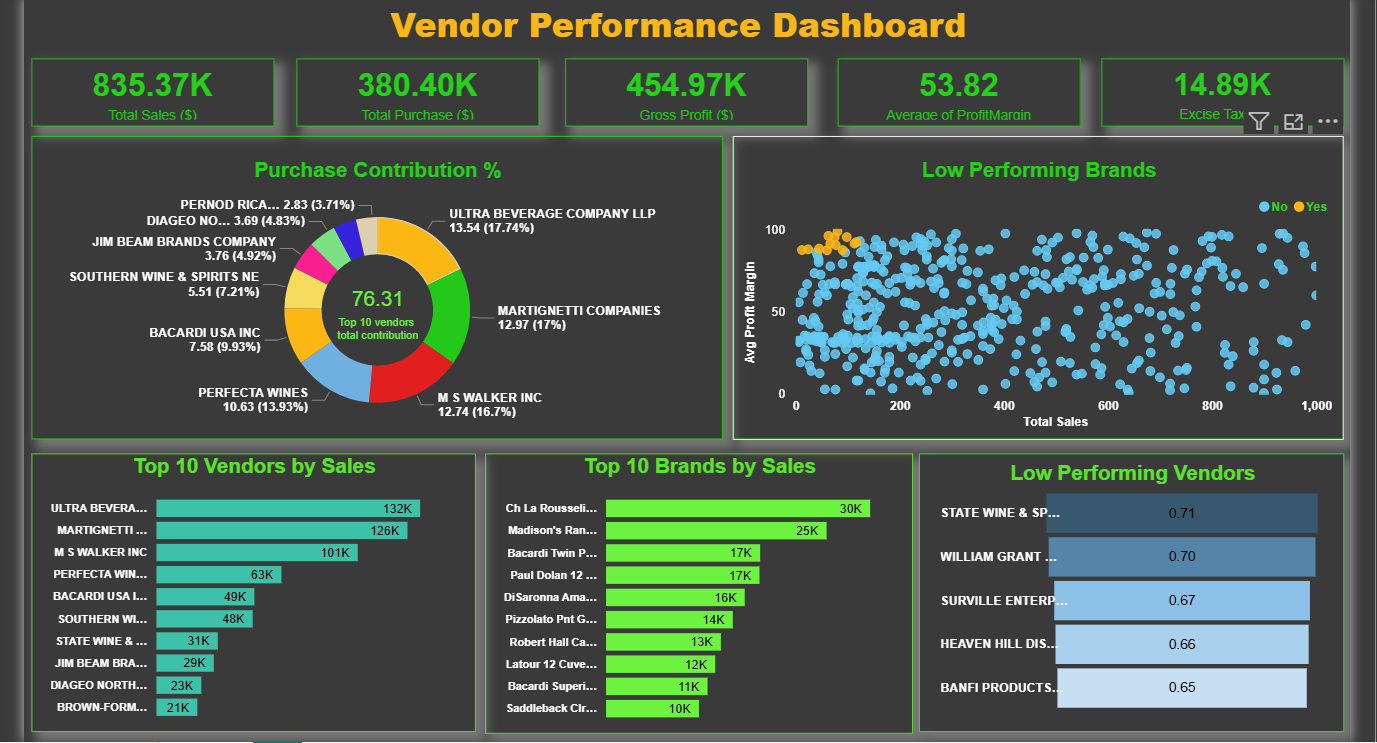

The page's visual inventory and layout, read from the dashboard file:
{"tool":"powerbi","page":{"name":"Page 1","canvas":[1280,720],"ordinal":0},"visuals":[{"type":"textbox","box":[348.6,0,774.3,60],"z":0},{"type":"card","fields":{"Values":["Sum(vendor_sales_summary.TotalSalesDollars)"]},"box":[7.1,60,234.3,65.7],"z":1000},{"type":"card","fields":{"Values":["Sum(vendor_sales_summary.TotalPurchaseDollars)"]},"box":[262.9,60,234.3,65.7],"z":2000},{"type":"card","fields":{"Values":["Sum(vendor_sales_summary.GrossProfit)"]},"box":[522.9,60,234.3,65.7],"z":3000},{"type":"card","fields":{"Values":["Avg(vendor_sales_summary.ProfitMargin)"]},"box":[785.7,60,234.3,65.7],"z":4000},{"type":"card","fields":{"Values":["Sum(vendor_sales_summary.TotalExciseTax)"]},"box":[1040,60,234.3,65.7],"z":5000},{"type":"donutChart","title":" Purchase Contribution %","fields":{"Y":["Sum(PurchaseContribution.PurchaseContribution%)"],"Category":["PurchaseContribution.VendorName"]},"box":[7.1,135.7,667.1,292.9],"z":6000},{"type":"card","fields":{"Values":["Sum(PurchaseContribution.PurchaseContribution%)"]},"box":[292.9,237.1,97.1,122.9],"z":7000},{"type":"clusteredBarChart","title":"Top 10 Brands by Sales","fields":{"Category":["vendor_sales_summary.Description"],"Y":["Sum(vendor_sales_summary.TotalSalesDollars)"]},"box":[445.7,441.4,412.9,270],"z":8000},{"type":"clusteredBarChart","title":"Top 10 Vendors by Sales","fields":{"Y":["Sum(vendor_sales_summary.TotalSalesDollars)"],"Category":["vendor_sales_summary.VendorName"]},"box":[7.1,441.4,428.6,268.6],"z":9000},{"type":"scatterChart","title":"Low Performing Brands","fields":{"Category":["BrandPerformance.Description"],"X":["Sum(BrandPerformance.TotalSales)"],"Y":["Sum(BrandPerformance.AvgProfitMargin)"],"Series":["BrandPerformance.TargetBrand"]},"box":[684.1,135.1,589.9,293.2],"z":10000},{"type":"funnel","title":"Low Performing Vendors","fields":{"Category":["LowTurnoverVendor.VendorName"],"Y":["Sum(LowTurnoverVendor.AvgStockTurnover)"]},"box":[864.3,441.4,410,268.6],"z":11000}]}

Visuals, with their boxes on the page's 1280x720 design canvas (x1, y1, x2, y2). These are canvas units, not pixel positions in the 1377x743 screenshot, which may show the page scaled, cropped or inside an application window:
textbox: locate(349, 0, 1123, 60)
card - Sum(vendor_sales_summary.TotalSalesDollars): locate(7, 60, 241, 126)
card - Sum(vendor_sales_summary.TotalPurchaseDollars): locate(263, 60, 497, 126)
card - Sum(vendor_sales_summary.GrossProfit): locate(523, 60, 757, 126)
card - Avg(vendor_sales_summary.ProfitMargin): locate(786, 60, 1020, 126)
card - Sum(vendor_sales_summary.TotalExciseTax): locate(1040, 60, 1274, 126)
" Purchase Contribution %" donutChart: locate(7, 136, 674, 429)
card - Sum(PurchaseContribution.PurchaseContribution%): locate(293, 237, 390, 360)
"Top 10 Brands by Sales" clusteredBarChart: locate(446, 441, 859, 711)
"Top 10 Vendors by Sales" clusteredBarChart: locate(7, 441, 436, 710)
"Low Performing Brands" scatterChart: locate(684, 135, 1274, 428)
"Low Performing Vendors" funnel: locate(864, 441, 1274, 710)
